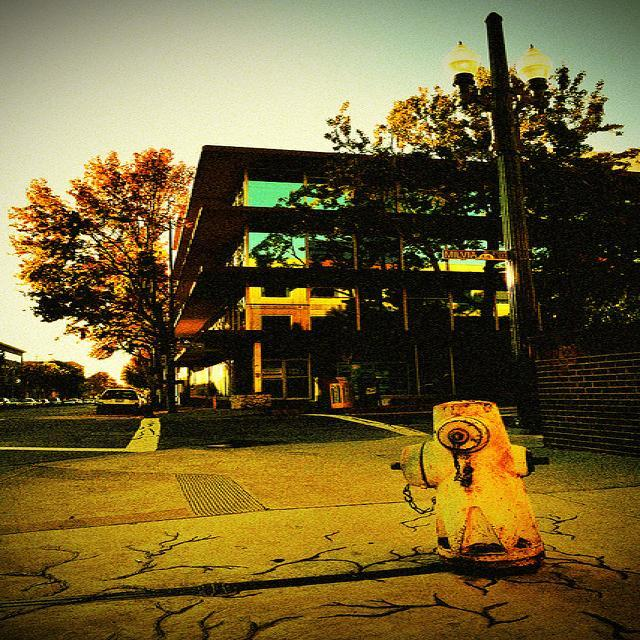fire_hydrant: (389, 401, 548, 573)
